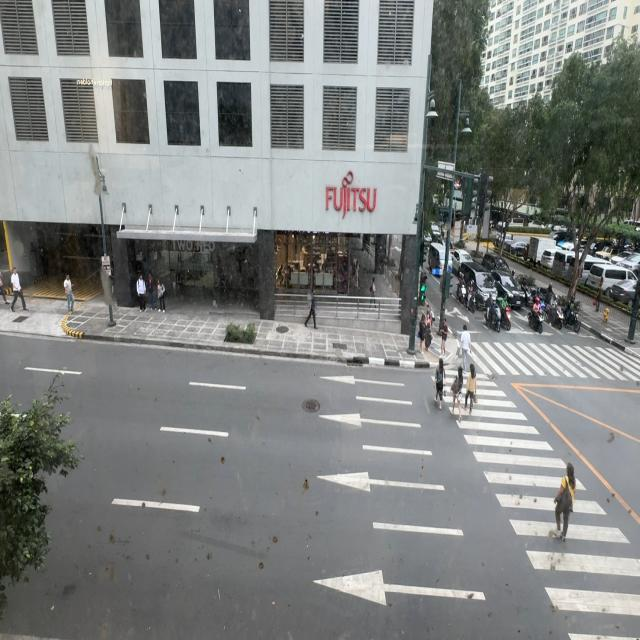crossing: (551, 462, 576, 541), (464, 364, 478, 414), (459, 322, 472, 374), (452, 366, 464, 421), (435, 358, 446, 409), (458, 325, 471, 367)
pedestrain: (302, 287, 316, 329), (64, 272, 74, 315), (594, 276, 604, 311), (148, 274, 157, 312), (365, 276, 374, 306)
waiting: (440, 318, 448, 357), (425, 307, 433, 337)
